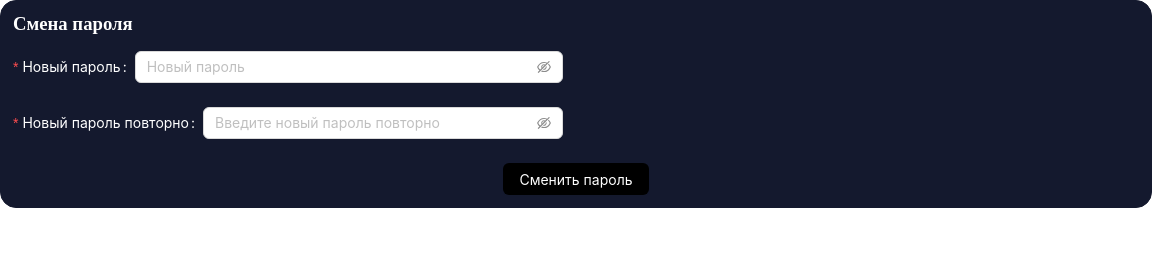
Test: ResetPasswordForm tests › displays error message if there is no token
In the password field with placeholder "Новый пароль": (340, 67) [147,56,533,78], type "123456"
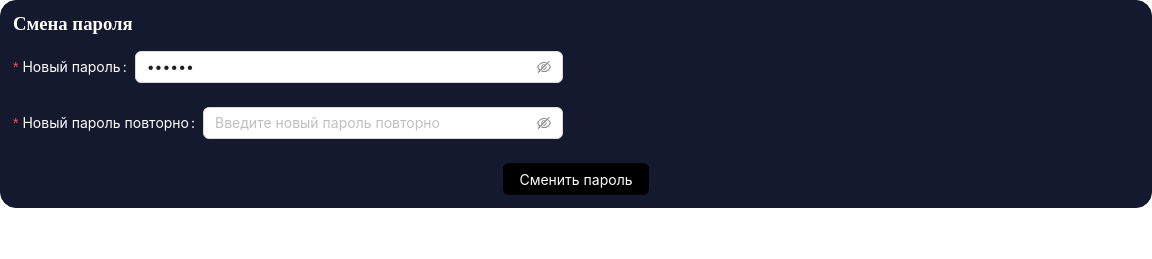
In the password field with placeholder "Введите новый пароль повторно": (374, 123) [215,112,533,134], type "123456"
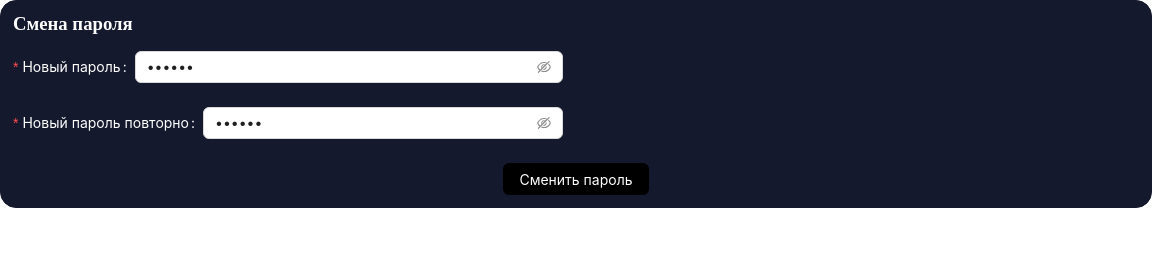
Click the button "Сменить пароль": (576, 179) [503,163,648,195]
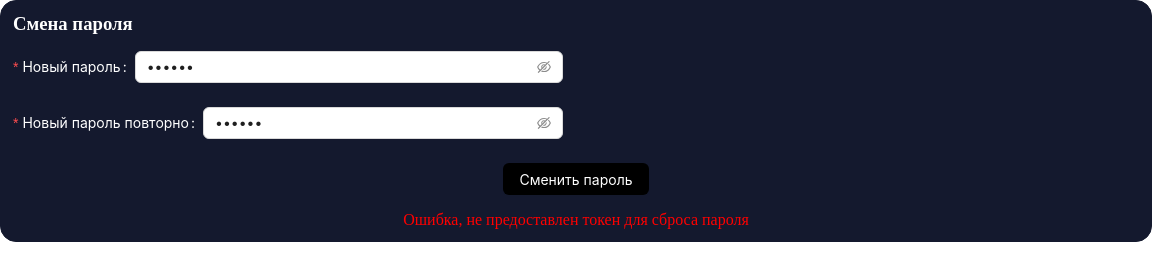
Result: the text "Ошибка, не предоставлен токен для сброса пароля" is shown at [403,211,749,229]
